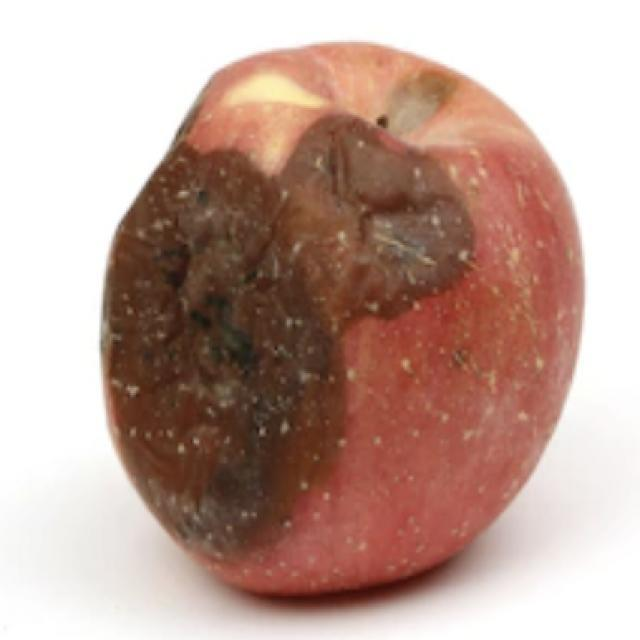Rotten: (92, 36, 585, 602)
